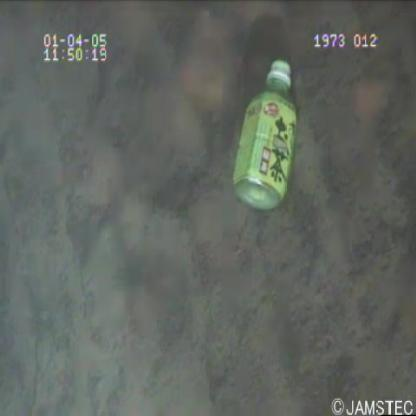Rác: (228, 57, 308, 208)
